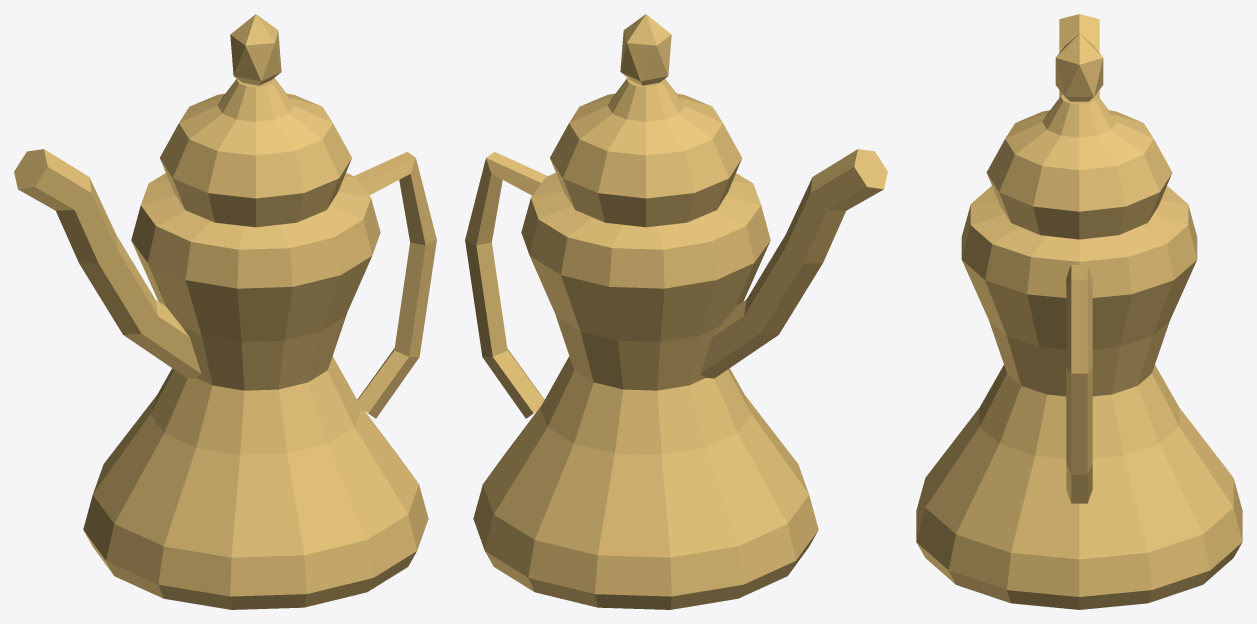
Rendered from dallah.glb.
The picture shows the model from 3 angles, left to right: view 1: azimuth 30°, elevation 25°; view 2: azimuth 150°, elevation 25°; view 3: azimuth 270°, elevation 25°; orthographic projection. The views are drawn at different scales.
Visible parts, largest first — view 1: dallah; view 2: dallah; view 3: dallah.
Boxes of the visible parts, box(x1,y1,x2,y2) form: dallah: box(14, 14, 436, 609); dallah: box(465, 14, 887, 609); dallah: box(916, 14, 1242, 609).
Bounding box in the file's own units: 0.0996 × 0.121 × 0.0702.
